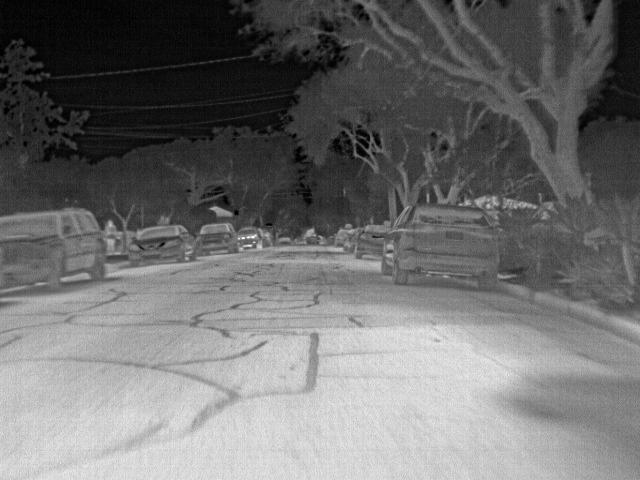car: (379, 200, 499, 292), (0, 206, 107, 294), (126, 223, 198, 267), (197, 220, 237, 254), (353, 221, 381, 259), (238, 226, 260, 251), (344, 227, 361, 251), (333, 228, 346, 248), (259, 228, 273, 246), (305, 234, 320, 244), (278, 235, 291, 246)
person: (105, 216, 118, 255)
